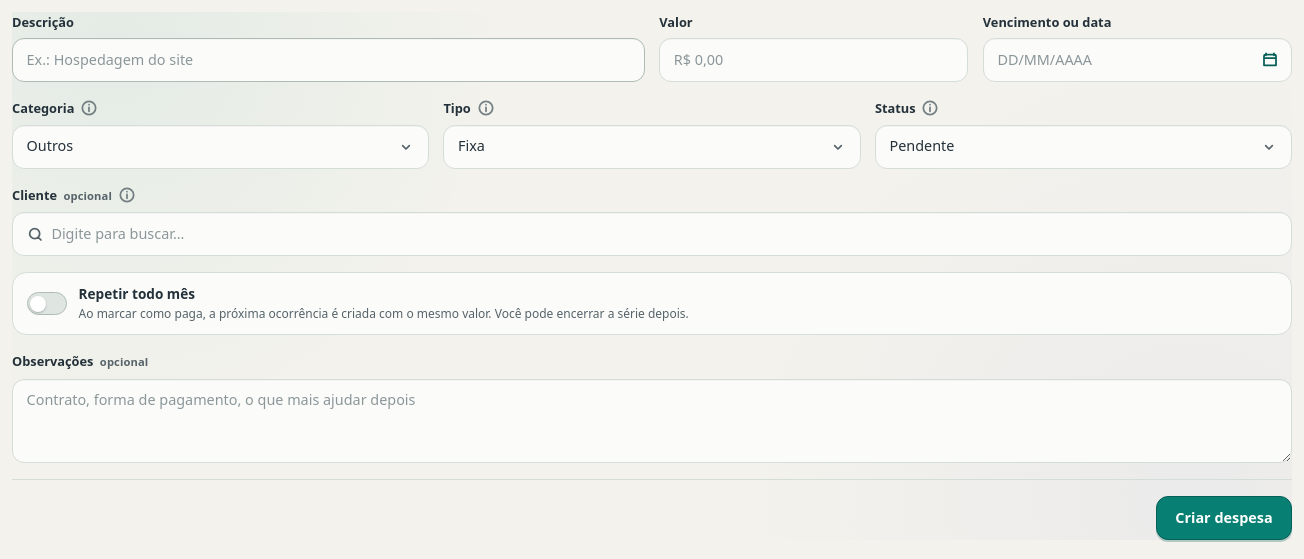
it: ExpenseForm monthly vs variable › mostra a opção de repetir todo mês apenas para despesa fixa
Expected: the text "Repetir todo mês" is shown, [79,284,195,303]
Click the dropdown named "Tipo".
click(471, 146)  # box [444,125,861,169]
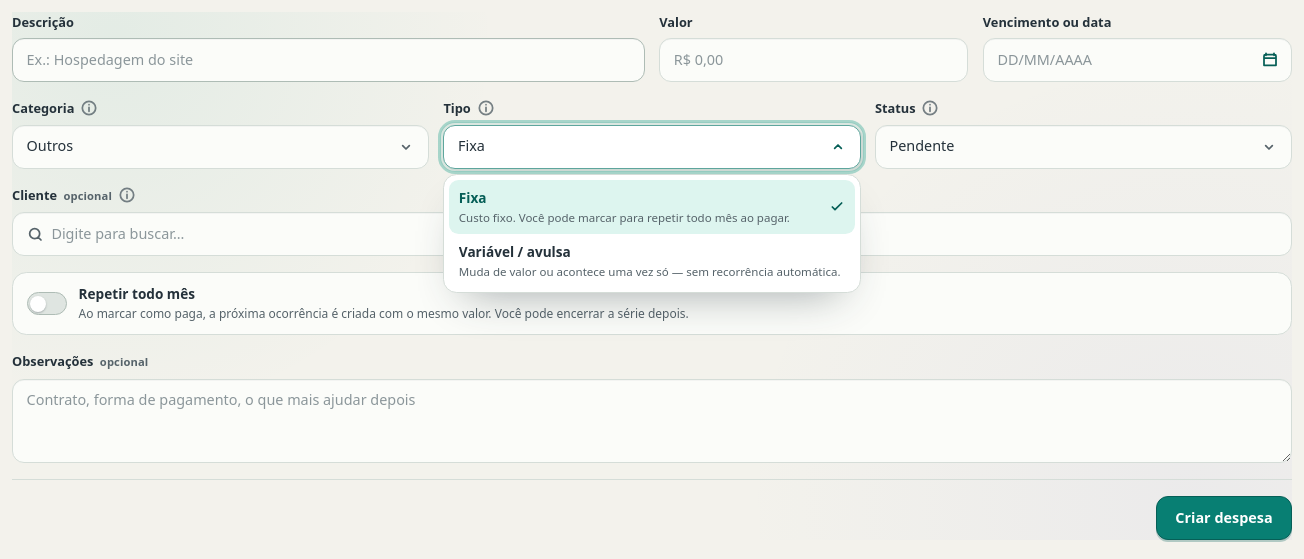
Click the option "Variável".
click(515, 251)  # box [449,234,855,287]
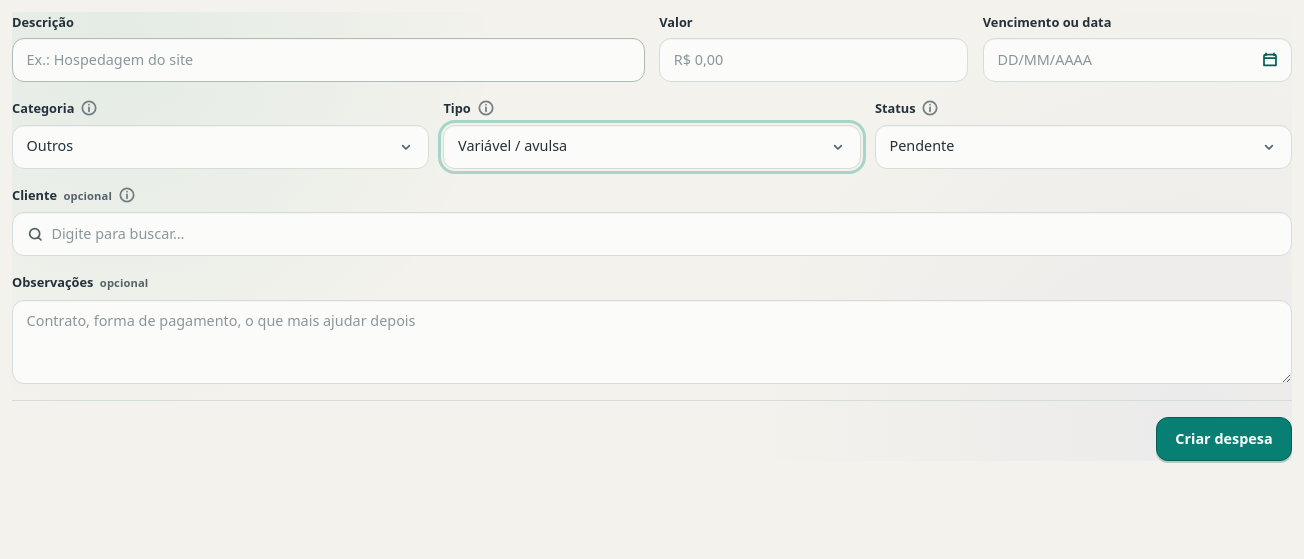
Result: the option "repetir todo mês" is gone
